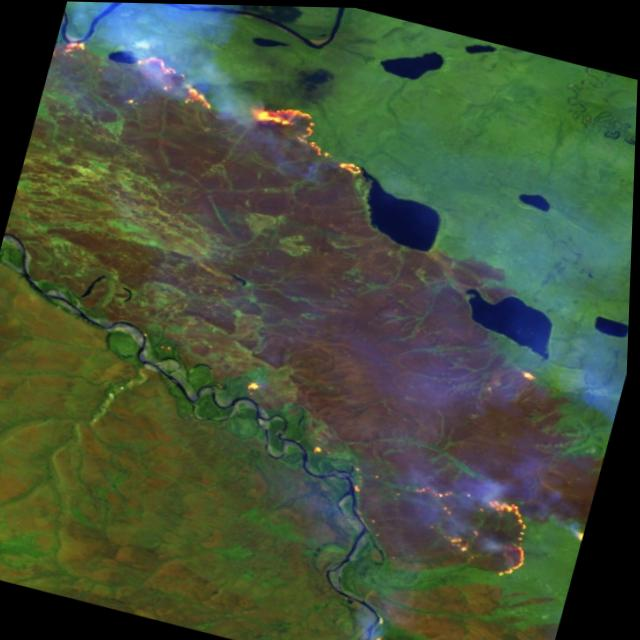fire: (37, 16, 399, 188), (388, 459, 595, 605), (350, 624, 408, 640)
